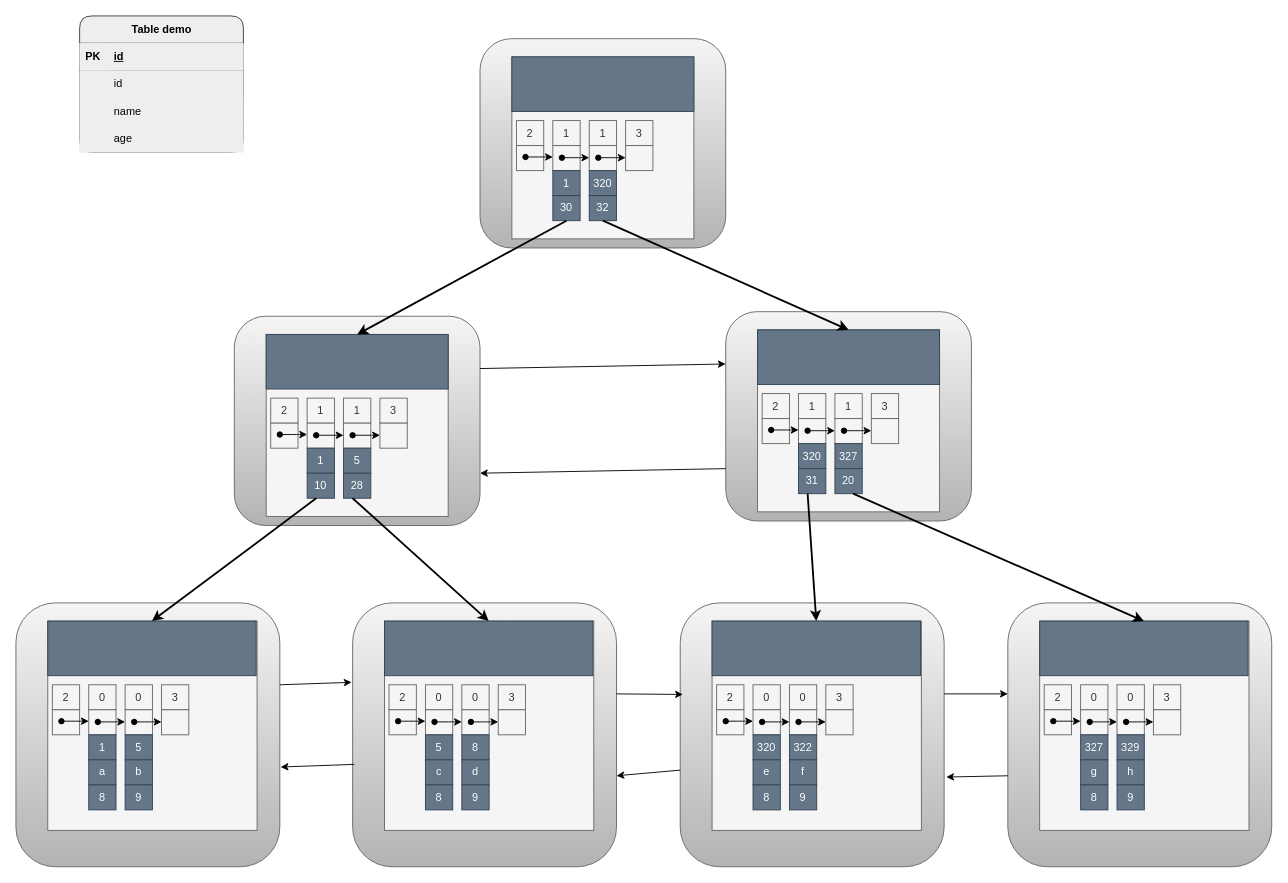
Some shapes in this 1288 by 883 pixel diagram are drawn without their labels. The centre of each missing label's shape, as x and y in pixels:
"页10" goes at (151,648).
"页20" goes at (1143,648).
"页28" goes at (488,648).
"页30" goes at (356,361).
"页31" goes at (815,648).
"页32" goes at (848,356).
"页33" goes at (602,83).
